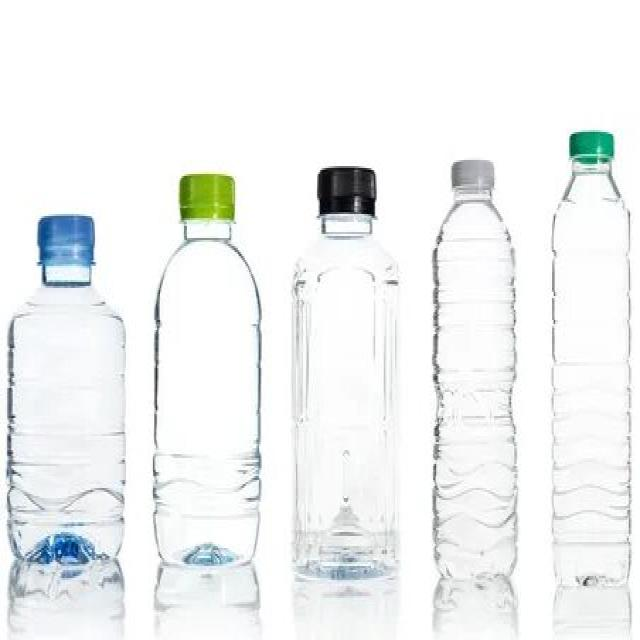blue: (11, 260, 124, 563)
